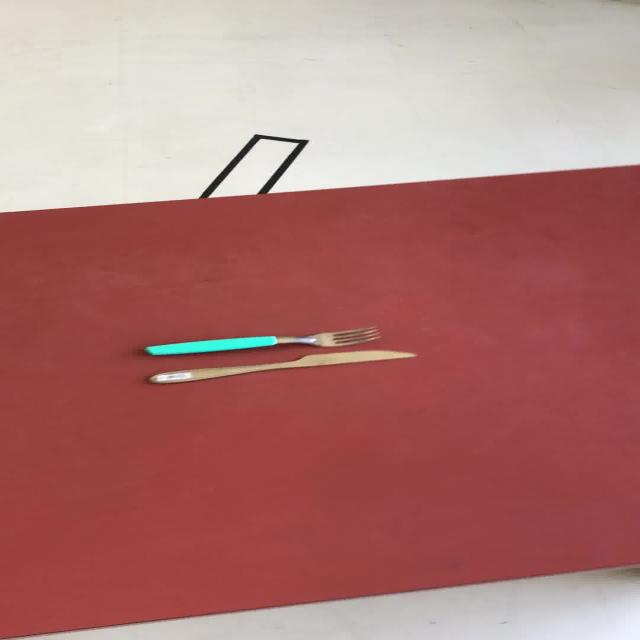fork: (142, 325, 380, 356)
knife fork: (146, 349, 416, 384), (142, 325, 381, 356)
